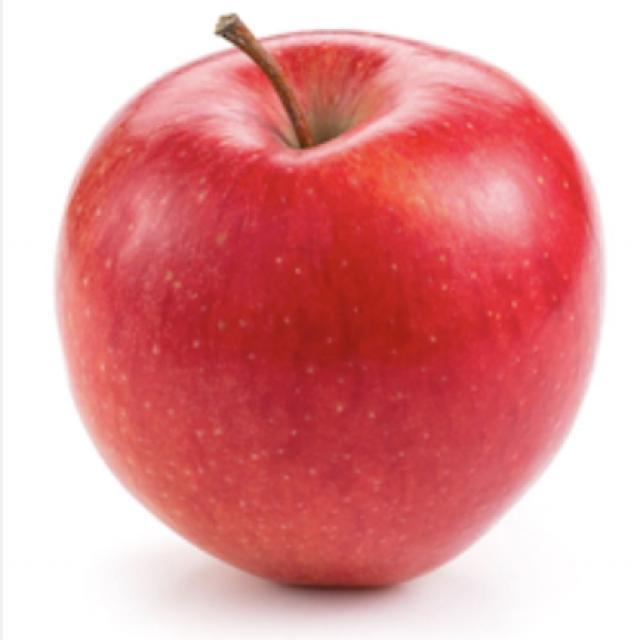Fresh Apple: (85, 40, 575, 538)
